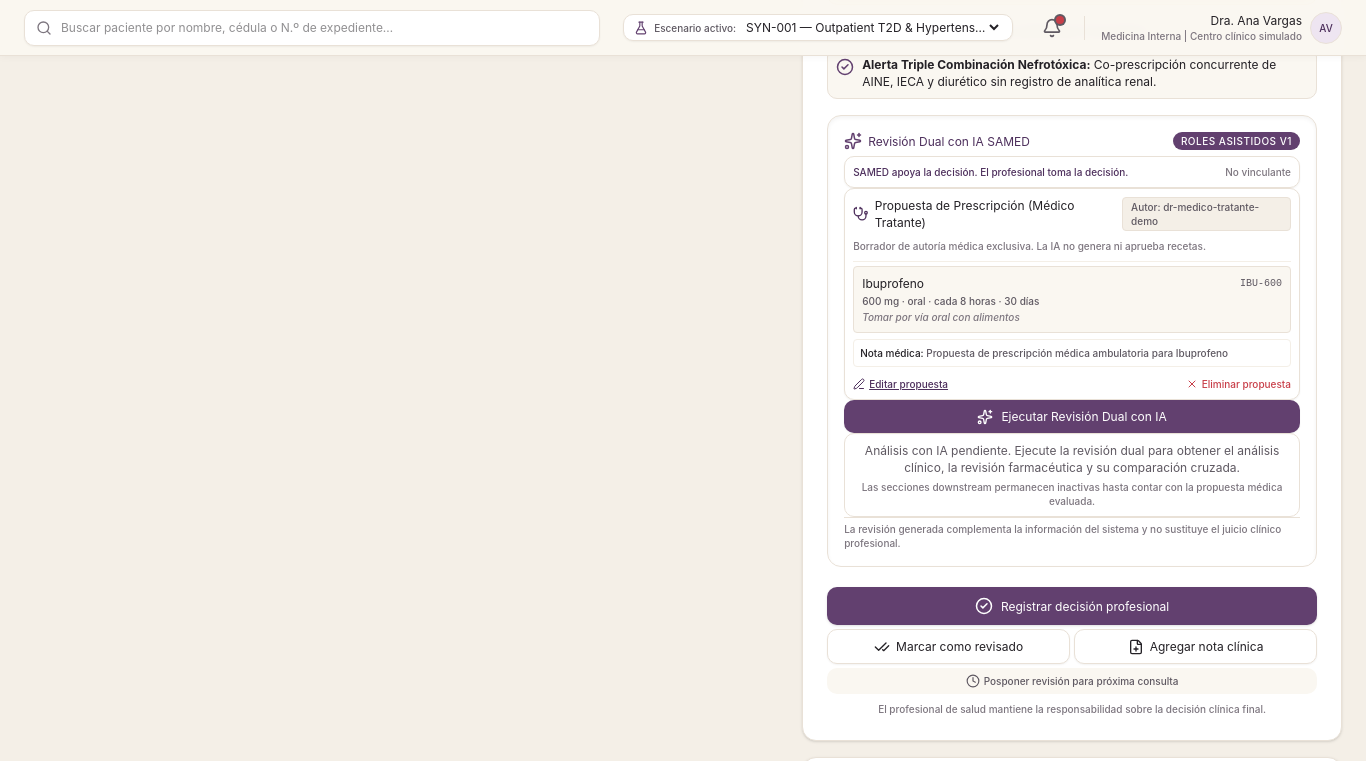
Test: MedicationReview — SAMED Visual Baseline v1 › prevents Dual AI review execution when PrescriptionDraft is deleted/absent
(page scrolled)
# Clear draft
Click the button "Eliminar propuesta".
click(1238, 384)  # box [1186, 377, 1291, 391]
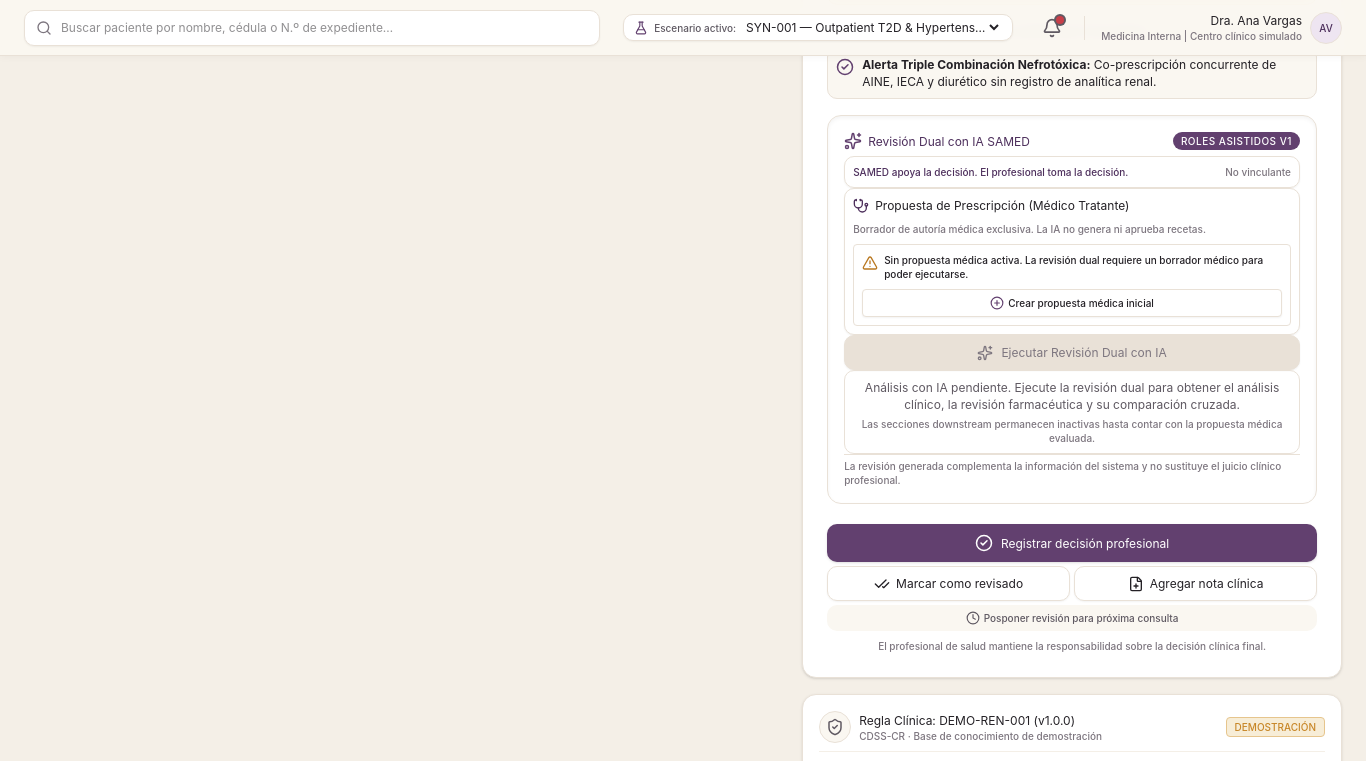
Expected: the text "Sin propuesta médica activa" is shown, [884, 254, 1263, 280]
Expected: the button "Ejecutar Revisión Dual con IA" is disabled, [844, 335, 1300, 370]
# Restore draft
Click the button "Crear propuesta médica inicial".
click(1072, 303)  # box [862, 289, 1282, 317]
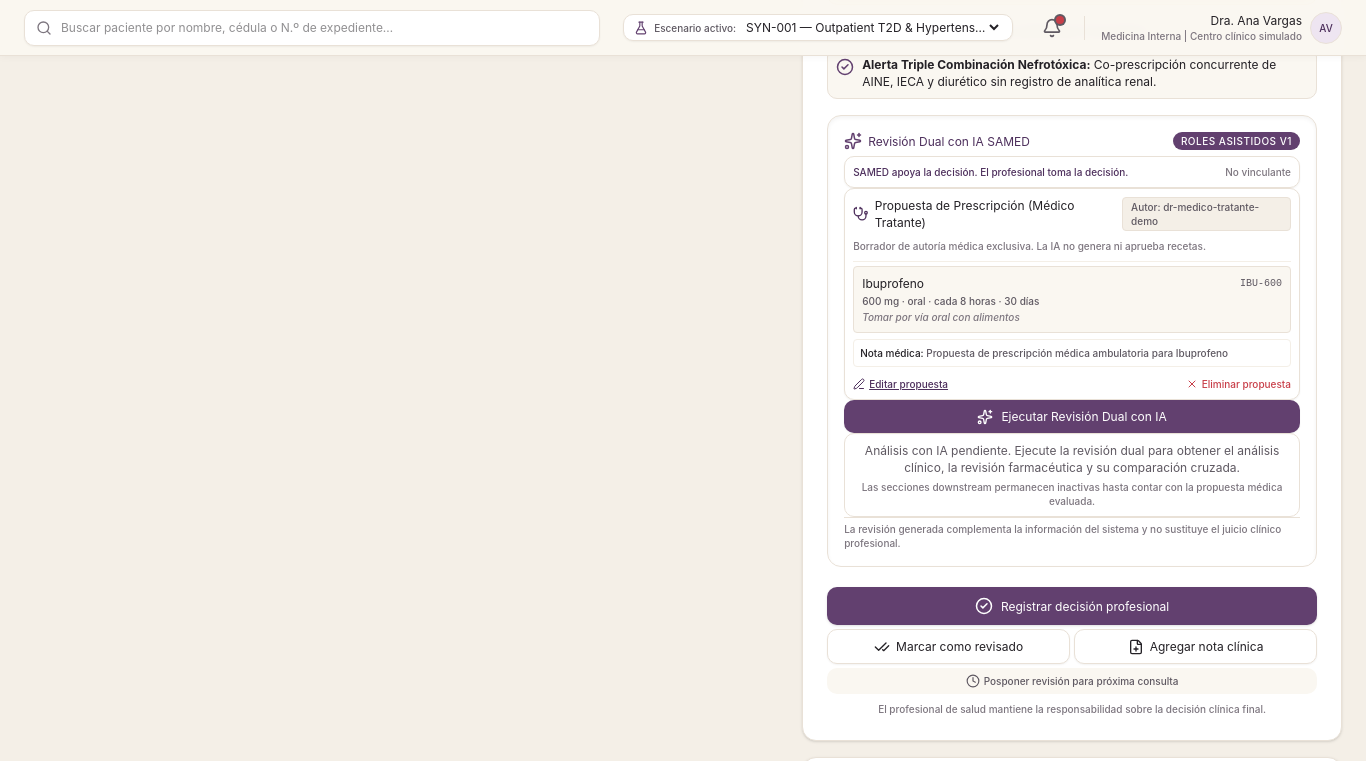
Expected: the text "Propuesta de Prescripción (Médico Tratante)" is shown, [875, 198, 1074, 230]
Expected: the button "Ejecutar Revisión Dual con IA" is enabled, [844, 400, 1300, 433]
